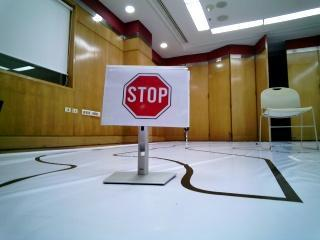stop: (105, 65, 189, 126)
